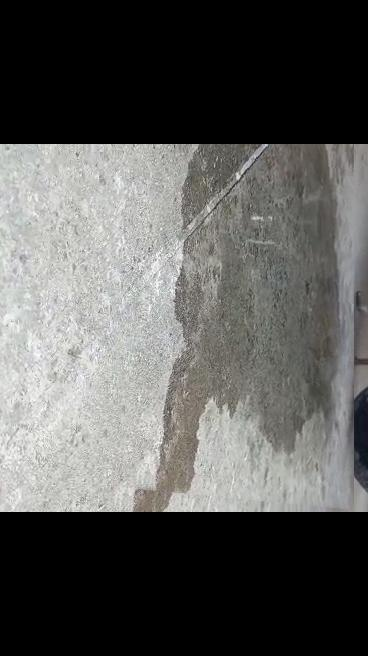water accumulation: (134, 144, 344, 512)
